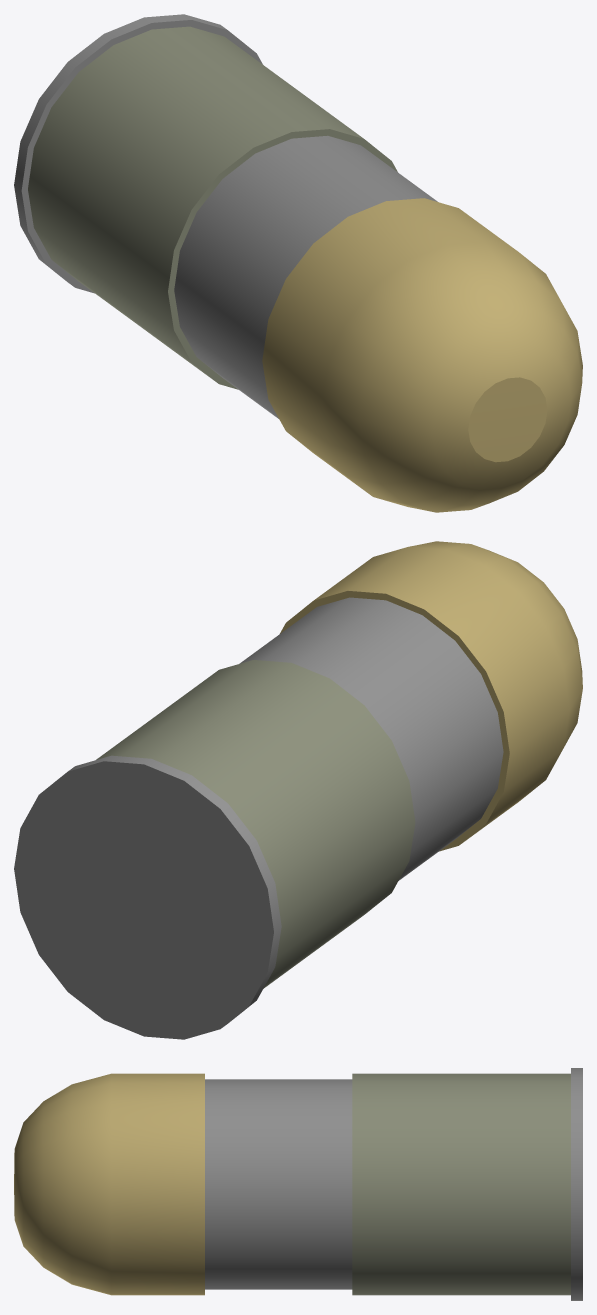
File: Grenade.fbx
3 views of the same model, one above another, from view 1: azimuth 30°, elevation 25°; view 2: azimuth 150°, elevation 25°; view 3: azimuth 270°, elevation 25° (orthographic). The views are drawn at different scales.
Parts seen in each view (by area): view 1: Grenade; view 2: Grenade; view 3: Grenade.
Part boxes in pixels (<box>): Grenade: <box>14,14,582,512</box>; Grenade: <box>14,541,582,1039</box>; Grenade: <box>14,1068,582,1300</box>.
Bounding box in the file's own units: 0.042 × 0.042 × 0.1019.
